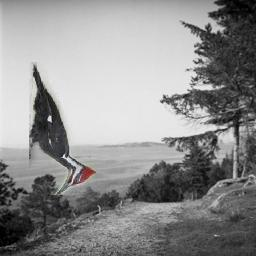Woodpecker: (30, 63, 97, 196)
